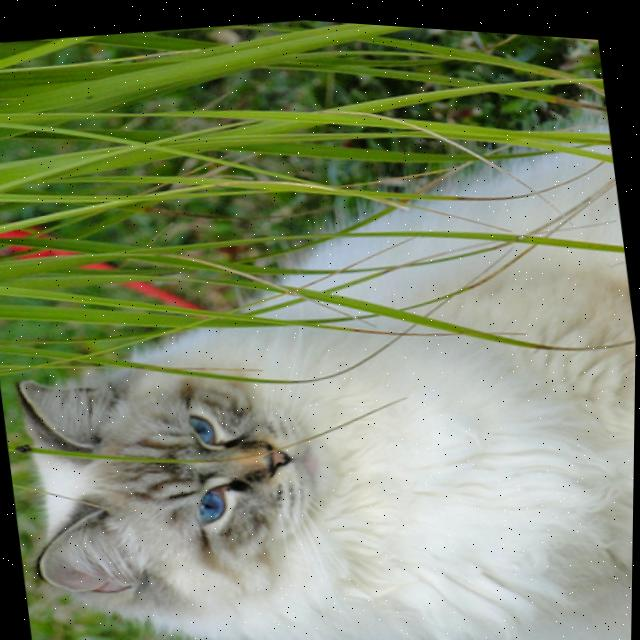Ragdoll: (0, 68, 639, 640)
